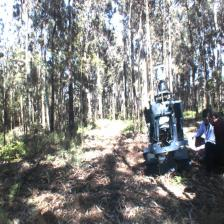trunktrack_idkeyframe: (69, 87, 74, 132)
